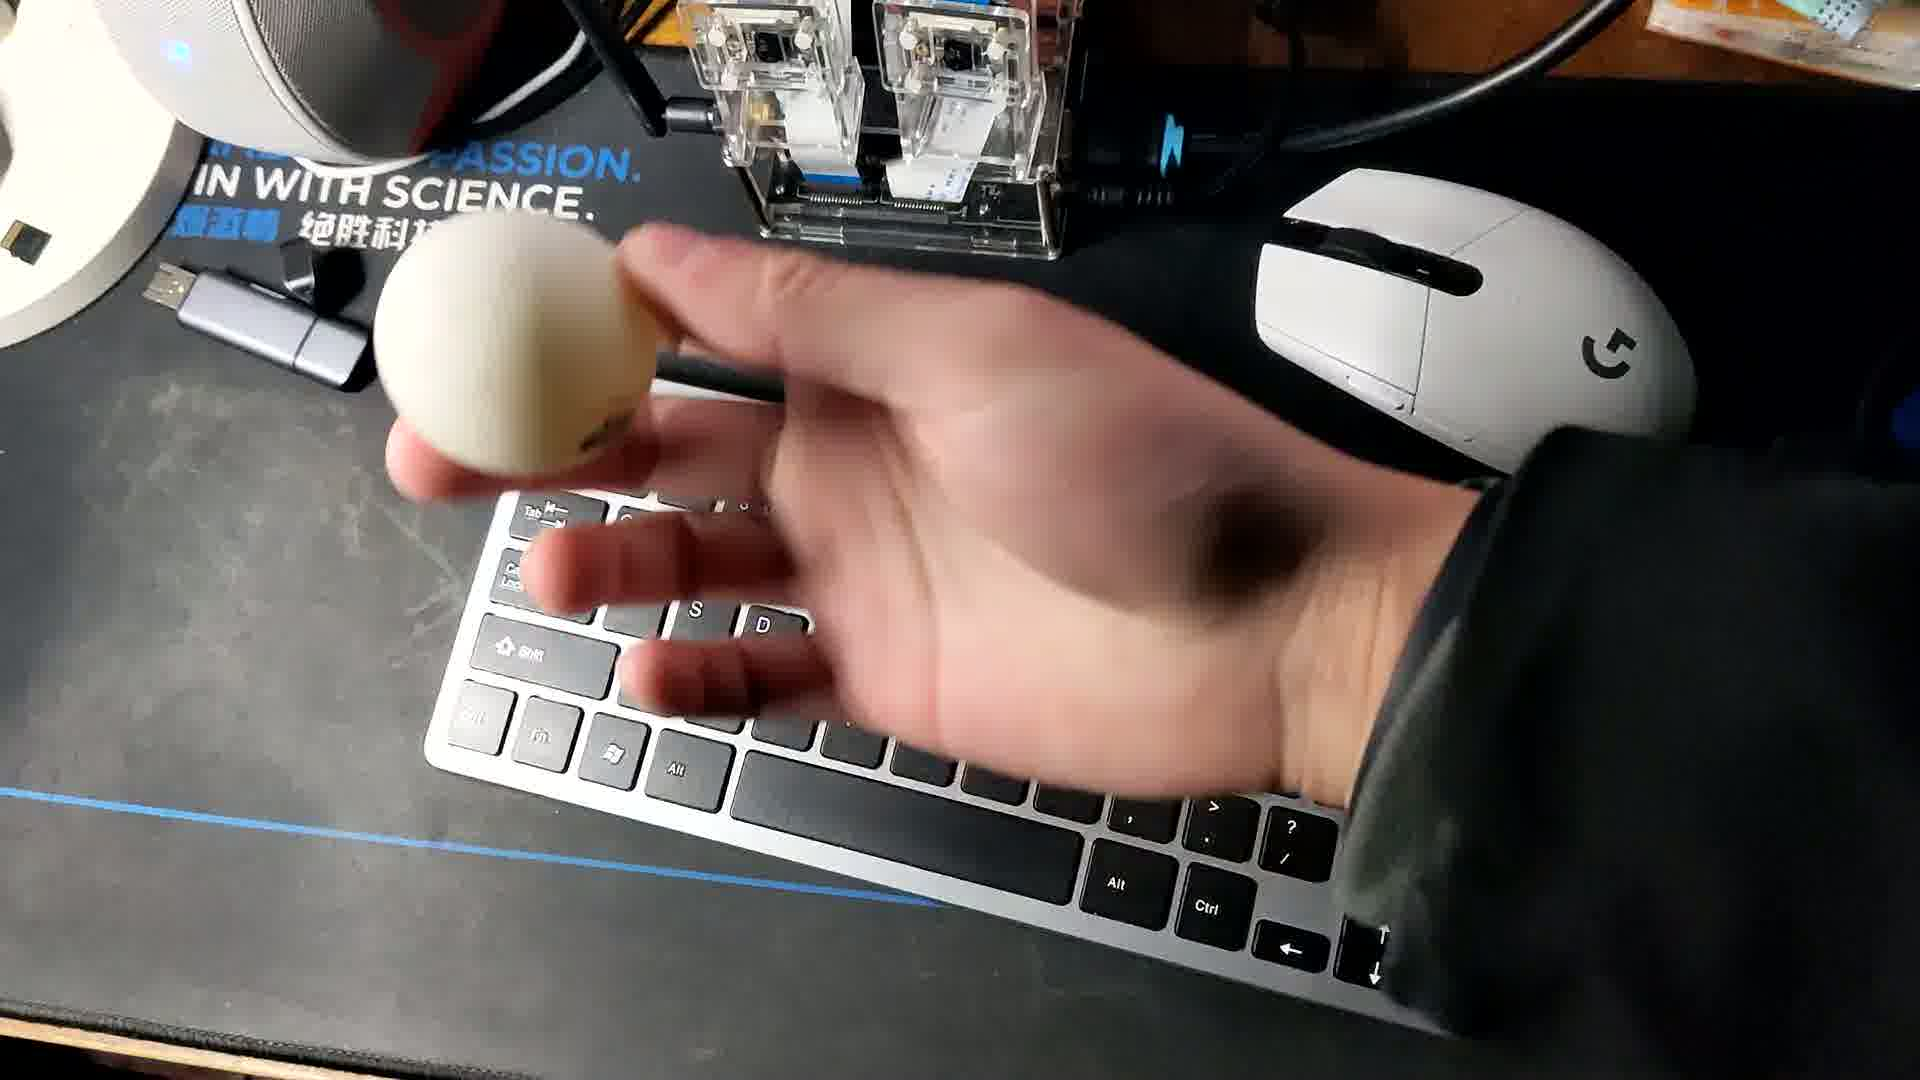Ball: (378, 211, 665, 473)
